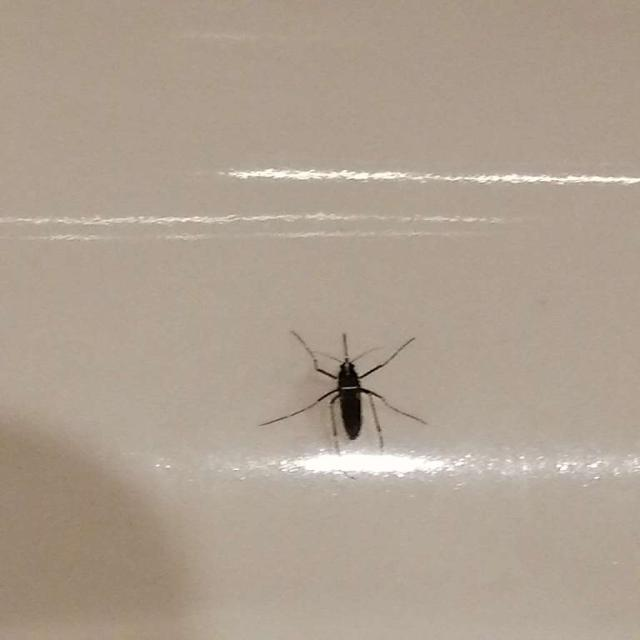albopictus: (258, 321, 432, 456)
